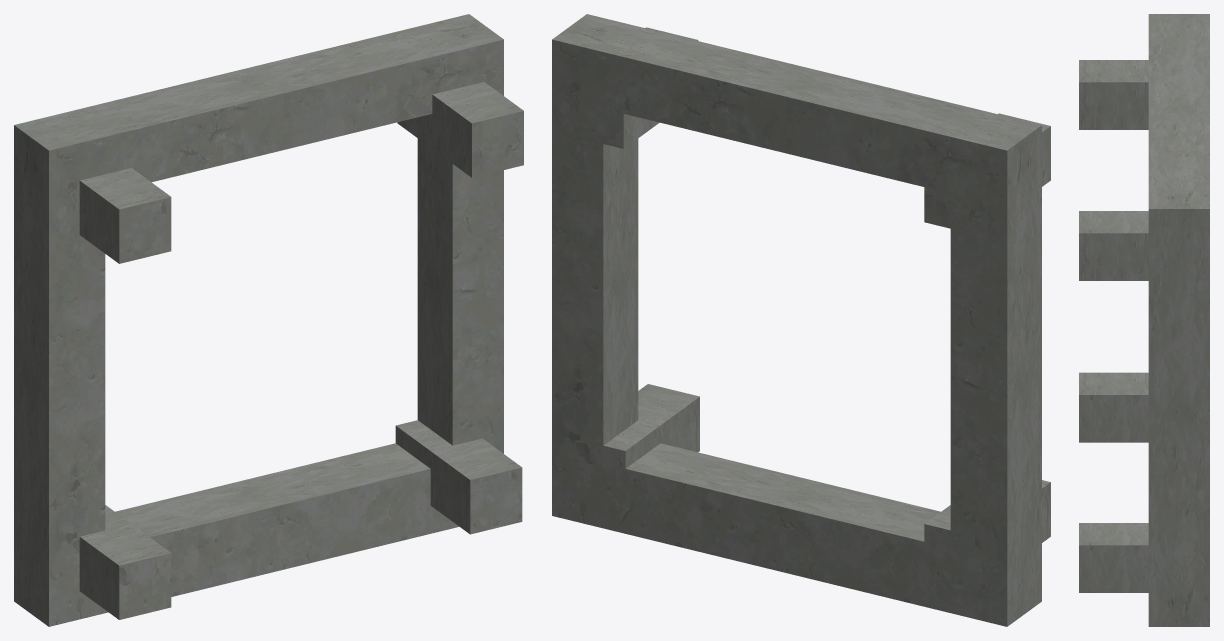
Rendered from huodong_fuben_603_kaolu_diji01.obj.
The picture shows the model from 3 angles, left to right: view 1: azimuth 30°, elevation 25°; view 2: azimuth 150°, elevation 25°; view 3: azimuth 270°, elevation 25°; orthographic projection. The views are drawn at different scales.
Visible parts, largest first — view 1: Object01; view 2: Object01; view 3: Object01.
Boxes of the visible parts, x1,y1,x2,y2 form: Object01: (14, 14, 523, 626); Object01: (552, 14, 1050, 626); Object01: (1079, 14, 1209, 626).
Bounding box in the file's own units: 350 × 350 × 99.25.
1 material, 1 textured.
